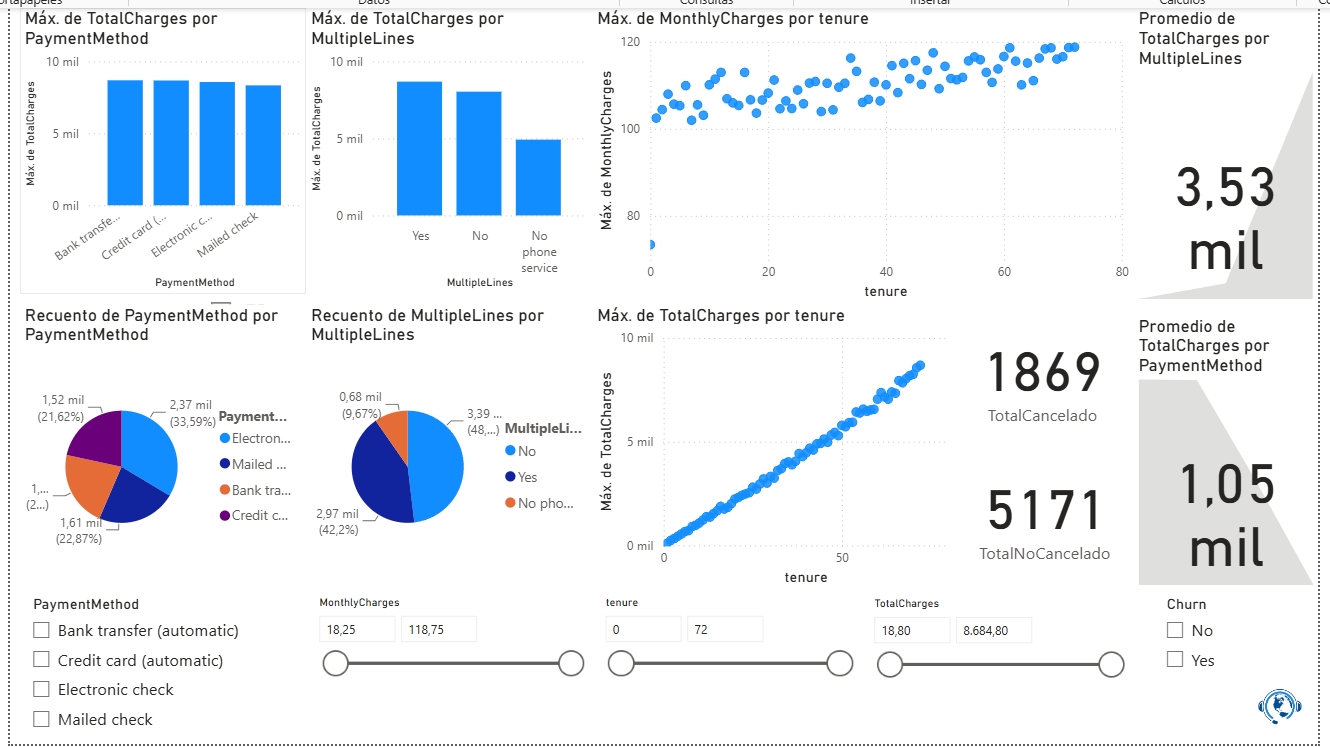

This screenshot's page, from the dashboard's own definition file:
{"tool":"powerbi","page":{"name":"Página 2","canvas":[1280,720],"ordinal":1},"visuals":[{"type":"clusteredColumnChart","fields":{"Category":["TelcoClientesFuga.PaymentMethod"],"Y":["Max(TelcoClientesFuga.TotalCharges)"]},"box":[10,0,280,280],"z":0},{"type":"pieChart","fields":{"Category":["TelcoClientesFuga.PaymentMethod"],"Y":["CountNonNull(TelcoClientesFuga.PaymentMethod)"]},"box":[10,290,280,280],"z":1000},{"type":"slicer","fields":{"Values":["TelcoClientesFuga.PaymentMethod"]},"box":[10,570,280,150],"z":2000},{"type":"scatterChart","fields":{"X":["TelcoClientesFuga.tenure"],"Y":["Max(TelcoClientesFuga.MonthlyCharges)"]},"box":[569.7,0,529.9,289.8],"z":3000},{"type":"slicer","fields":{"Values":["TelcoClientesFuga.MonthlyCharges"]},"box":[289.5,569.5,279.9,149.6],"z":4000},{"type":"slicer","fields":{"Values":["TelcoClientesFuga.tenure"]},"box":[569.5,569.5,263.5,149.6],"z":5000},{"type":"slicer","fields":{"Values":["TelcoClientesFuga.TotalCharges"]},"box":[832.9,570.8,266.2,149.6],"z":6000},{"type":"clusteredColumnChart","fields":{"Y":["Max(TelcoClientesFuga.TotalCharges)"],"Category":["TelcoClientesFuga.MultipleLines"]},"box":[289.5,0,279.9,279.9],"z":7000},{"type":"pieChart","fields":{"Category":["TelcoClientesFuga.MultipleLines"],"Y":["CountNonNull(TelcoClientesFuga.MultipleLines)"]},"box":[289.5,289.5,279.9,279.9],"z":8000},{"type":"kpi","fields":{"Indicator":["Avg(TelcoClientesFuga.TotalCharges)"],"TrendLine":["TelcoClientesFuga.MultipleLines"]},"box":[1099.7,0,180.4,289.8],"z":9000},{"type":"kpi","fields":{"Indicator":["Avg(TelcoClientesFuga.TotalCharges)"],"TrendLine":["TelcoClientesFuga.PaymentMethod"]},"box":[1099.1,300.5,181.1,269],"z":10000},{"type":"scatterChart","fields":{"Y":["Max(TelcoClientesFuga.TotalCharges)"],"X":["TelcoClientesFuga.tenure"]},"box":[569.7,289.8,360.7,279.9],"z":11000},{"type":"slicer","fields":{"Values":["TelcoClientesFuga.Churn"]},"box":[1119.5,570.4,160.5,149.6],"z":12000},{"type":"image","box":[1207.9,645.6,72.1,74.6],"z":13000},{"type":"card","fields":{"Values":["TelcoClientesFuga.TotalCancelado"]},"box":[925.5,289.8,169.2,139.3],"z":15001},{"type":"card","fields":{"Values":["TelcoClientesFuga.TotalNoCancelado"]},"box":[930.5,429.2,164.2,130.6],"z":15002}]}

Visuals, with their boxes on the page's 1280x720 design canvas (x1, y1, x2, y2). These are canvas units, not pixel positions in the 1330x747 screenshot, which may show the page scaled, cropped or inside an application window:
clusteredColumnChart - TelcoClientesFuga.PaymentMethod x Max(TelcoClientesFuga.TotalCharges): select_region(10, 0, 290, 280)
pieChart - TelcoClientesFuga.PaymentMethod x CountNonNull(TelcoClientesFuga.PaymentMethod): select_region(10, 290, 290, 570)
slicer - TelcoClientesFuga.PaymentMethod: select_region(10, 570, 290, 720)
scatterChart - TelcoClientesFuga.tenure x Max(TelcoClientesFuga.MonthlyCharges): select_region(570, 0, 1100, 290)
slicer - TelcoClientesFuga.MonthlyCharges: select_region(290, 570, 569, 719)
slicer - TelcoClientesFuga.tenure: select_region(570, 570, 833, 719)
slicer - TelcoClientesFuga.TotalCharges: select_region(833, 571, 1099, 720)
clusteredColumnChart - Max(TelcoClientesFuga.TotalCharges) x TelcoClientesFuga.MultipleLines: select_region(290, 0, 569, 280)
pieChart - TelcoClientesFuga.MultipleLines x CountNonNull(TelcoClientesFuga.MultipleLines): select_region(290, 290, 569, 569)
kpi - Avg(TelcoClientesFuga.TotalCharges) x TelcoClientesFuga.MultipleLines: select_region(1100, 0, 1280, 290)
kpi - Avg(TelcoClientesFuga.TotalCharges) x TelcoClientesFuga.PaymentMethod: select_region(1099, 300, 1280, 570)
scatterChart - Max(TelcoClientesFuga.TotalCharges) x TelcoClientesFuga.tenure: select_region(570, 290, 930, 570)
slicer - TelcoClientesFuga.Churn: select_region(1120, 570, 1280, 720)
image: select_region(1208, 646, 1280, 720)
card - TelcoClientesFuga.TotalCancelado: select_region(926, 290, 1095, 429)
card - TelcoClientesFuga.TotalNoCancelado: select_region(930, 429, 1095, 560)
